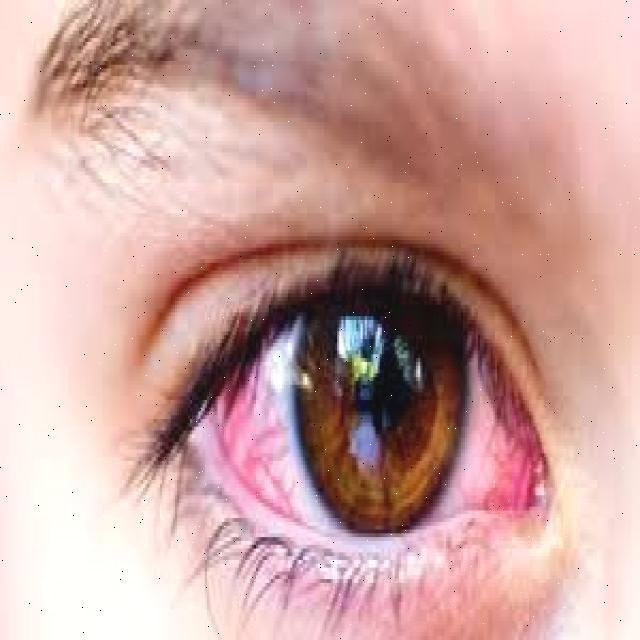Conjunctivitis: (164, 374, 568, 530)
